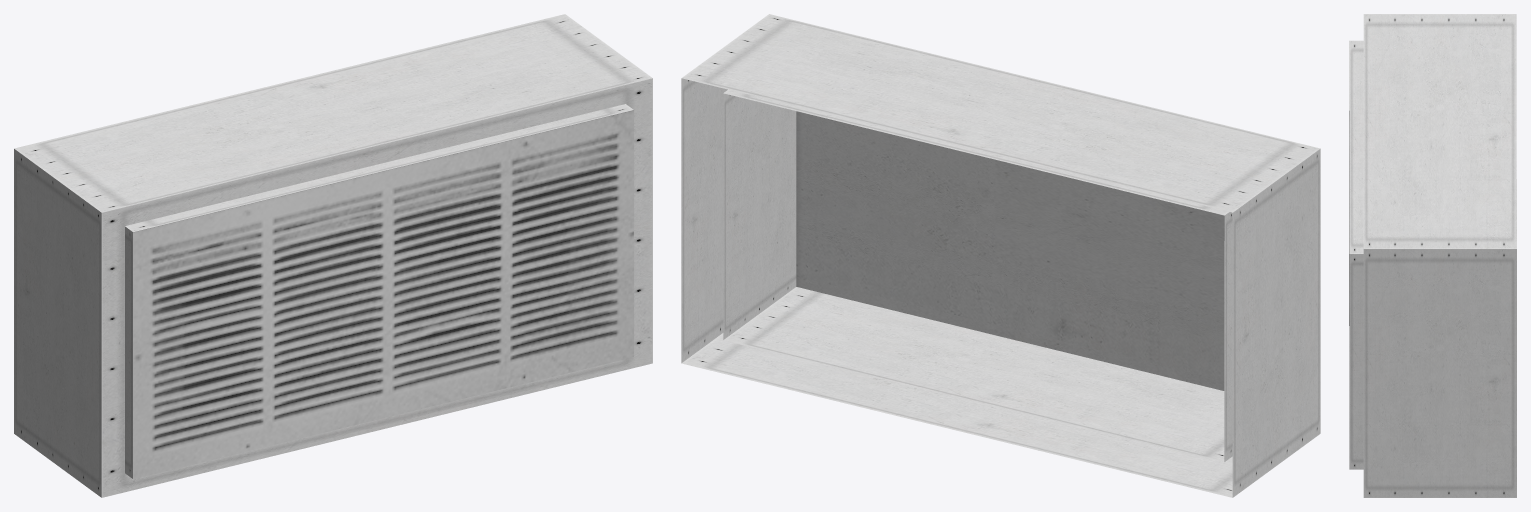
The model's file is d_vent_a.FBX.
3 renders of one model, left to right at view 1: azimuth 30°, elevation 25°; view 2: azimuth 150°, elevation 25°; view 3: azimuth 270°, elevation 25°, orthographic. The views are drawn at different scales.
Parts seen in each view (by area): view 1: DF_vent01; view 2: DF_vent01; view 3: DF_vent01.
Boxes of the visible parts, x1,y1,x2,y2 form: DF_vent01: [14, 14, 652, 497]; DF_vent01: [681, 14, 1320, 497]; DF_vent01: [1349, 14, 1516, 497].
Size of the model in its own units: 5.63 by 1.7 by 2.78.
